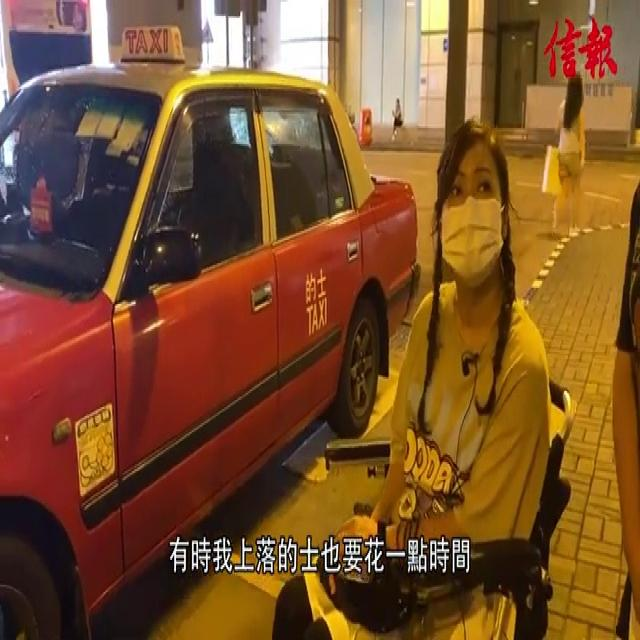wheelchairs: (316, 365, 578, 640)
